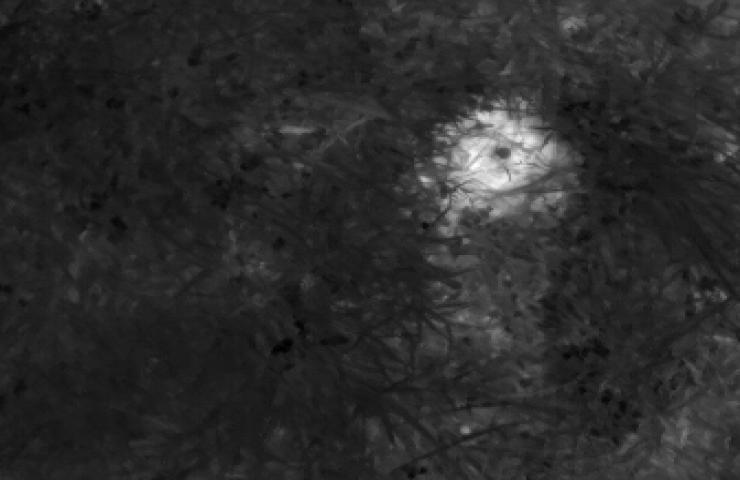landmines: (419, 92, 584, 222)
